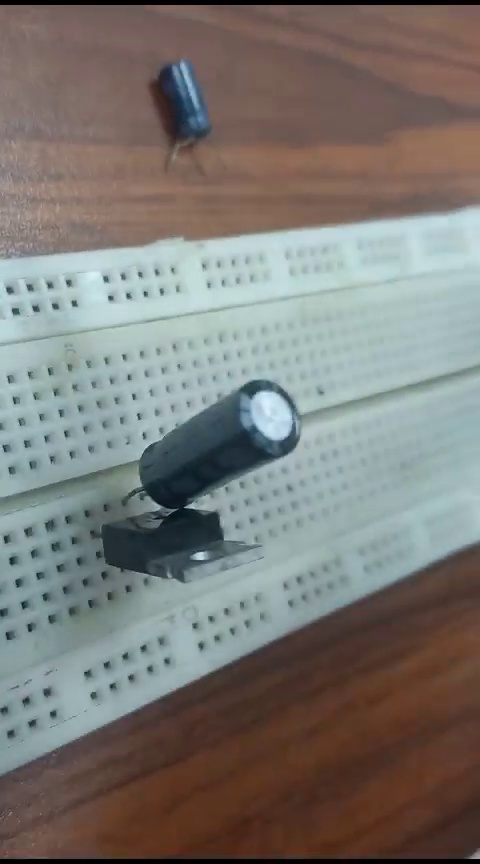capacitor: (118, 377, 315, 505), (138, 48, 219, 175)
voltage regulator: (86, 512, 263, 593)
